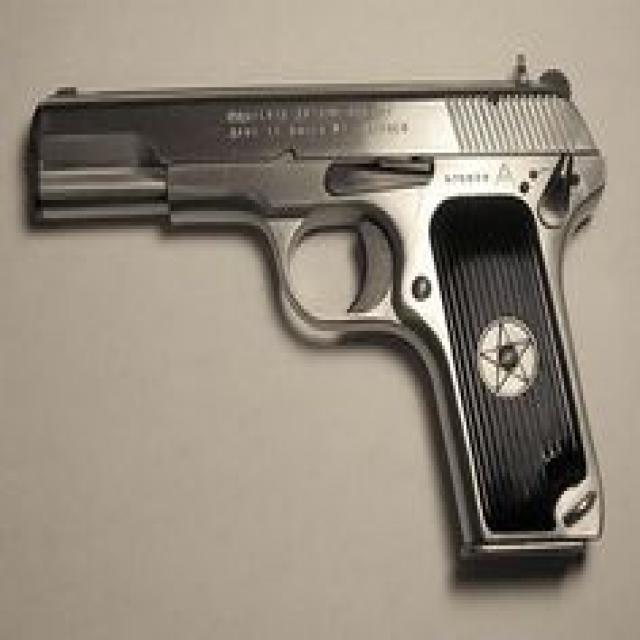semi automatic: (21, 50, 618, 591)
